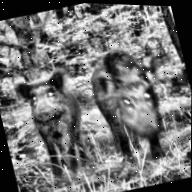boar: (74, 33, 174, 170), (13, 63, 102, 188)
